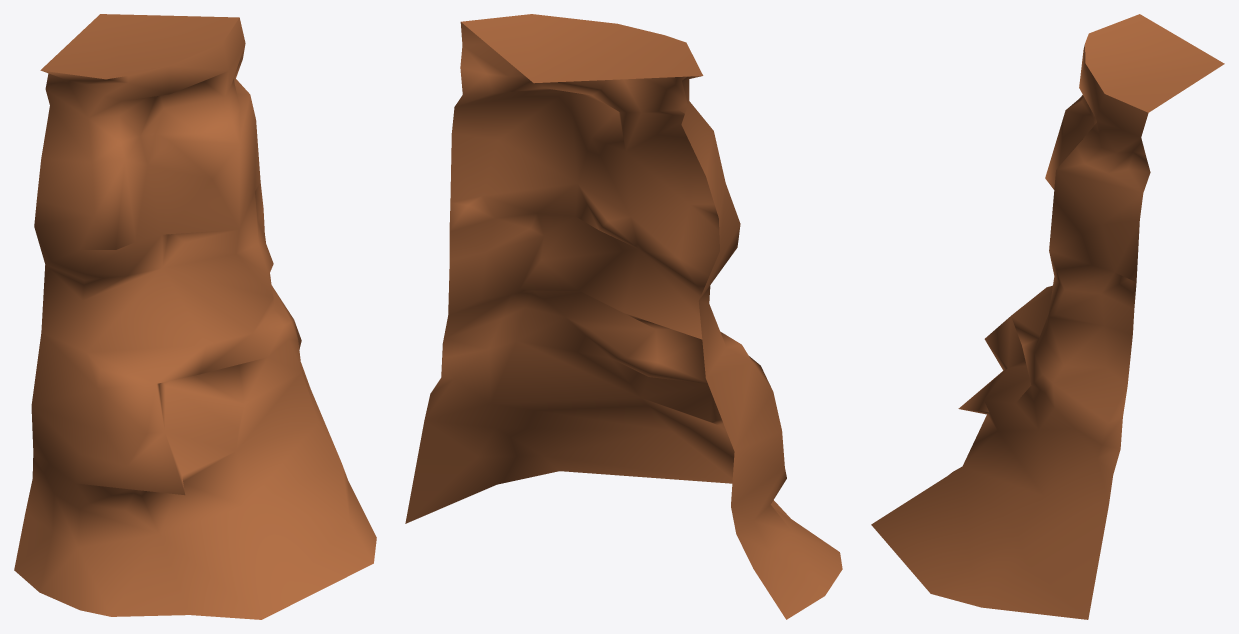
The model's file is Cliff_Wall09.FBX.
3 views of the same model, side by side, from view 1: azimuth 30°, elevation 25°; view 2: azimuth 150°, elevation 25°; view 3: azimuth 270°, elevation 25° (orthographic). The views are drawn at different scales.
Parts seen in each view (by area): view 1: Cliff_Wall09; view 2: Cliff_Wall09; view 3: Cliff_Wall09.
Boxes of the visible parts, x1,y1,x2,y2 form: Cliff_Wall09: (14, 14, 376, 619); Cliff_Wall09: (405, 14, 842, 619); Cliff_Wall09: (871, 14, 1224, 619).
Bounding box in the file's own units: 1253 × 1690 × 1155.
